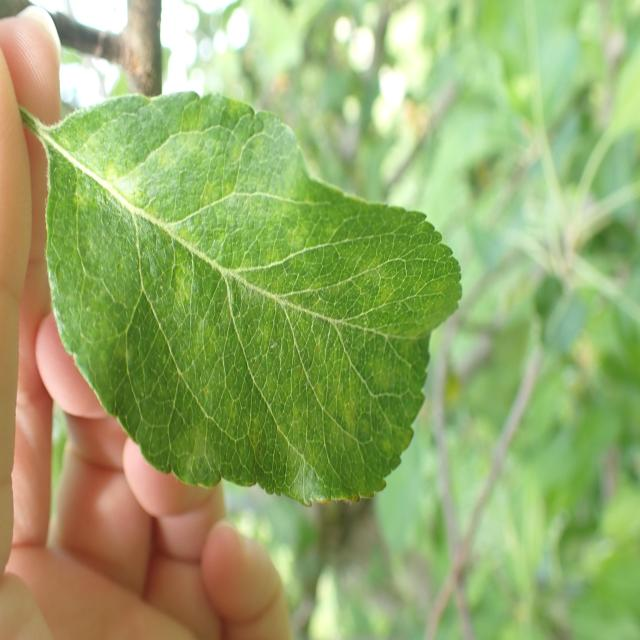Rust: (41, 87, 448, 500)
